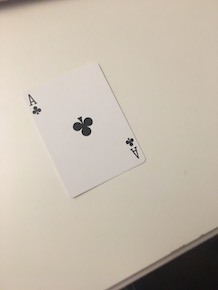AceOfClubs: (24, 60, 152, 200)
